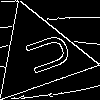U: (14, 30, 73, 80)
